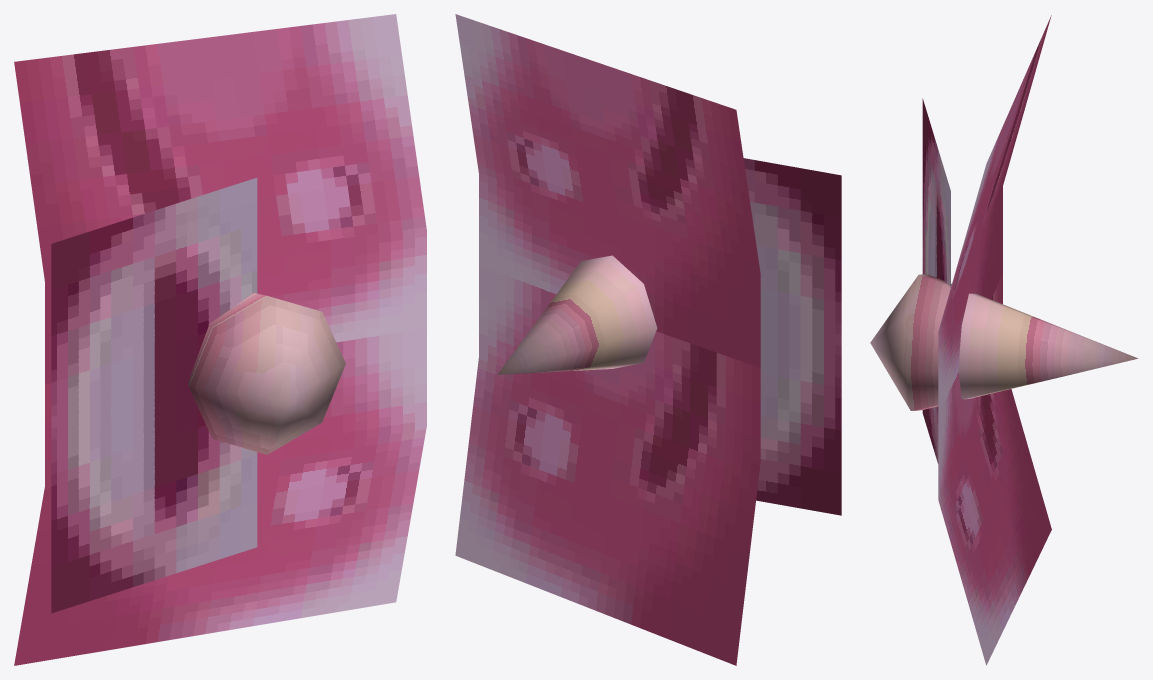
File: acc_pacifier.dae
The picture shows the model from 3 angles, left to right: view 1: azimuth 30°, elevation 25°; view 2: azimuth 150°, elevation 25°; view 3: azimuth 270°, elevation 25°; orthographic projection. The views are drawn at different scales.
Visible parts, largest first — view 1: acc_pacifier; view 2: acc_pacifier; view 3: acc_pacifier.
Boxes of the visible parts, left/top/right/bottom form: acc_pacifier: left=14, top=14, right=426, bottom=665; acc_pacifier: left=455, top=14, right=841, bottom=665; acc_pacifier: left=870, top=15, right=1138, bottom=665.
Bounding box in the file's own units: 8.54 × 12.81 × 6.05.
2 materials, 2 textured.
